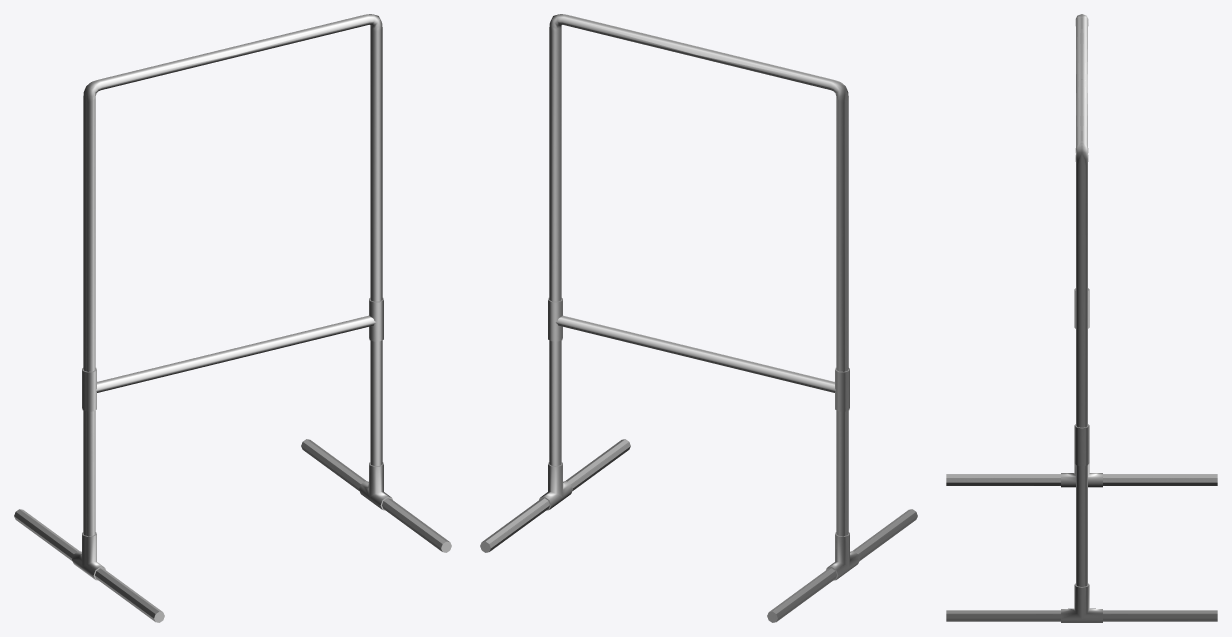
Rendered from baseballShelf.glb.
The picture shows the model from 3 angles, left to right: view 1: azimuth 30°, elevation 25°; view 2: azimuth 150°, elevation 25°; view 3: azimuth 270°, elevation 25°; orthographic projection. The views are drawn at different scales.
Visible parts, largest first — view 1: Cylinder001; view 2: Cylinder001; view 3: Cylinder001.
Boxes of the visible parts, x1,y1,x2,y2 form: Cylinder001: [14, 14, 451, 622]; Cylinder001: [480, 14, 917, 622]; Cylinder001: [946, 14, 1217, 622].
Bounding box in the file's own units: 1.65 × 2.58 × 1.34.
Materials: 1 (1 with a texture image).
